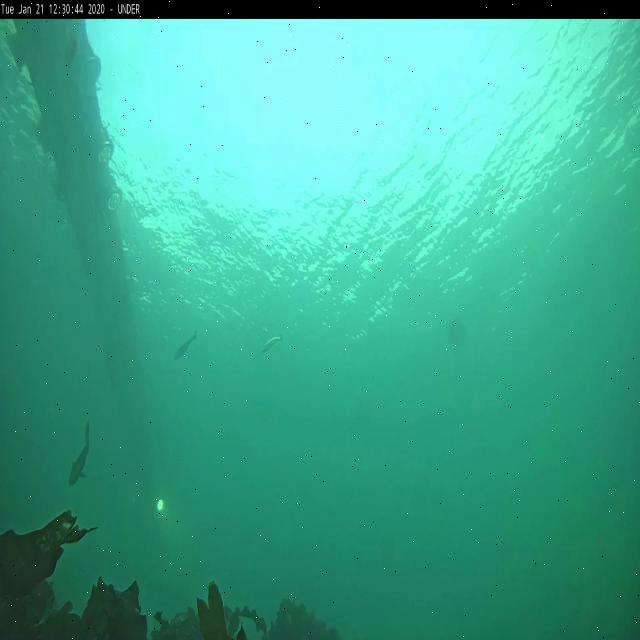fish: (68, 418, 92, 489), (170, 330, 200, 362), (260, 330, 282, 354)
